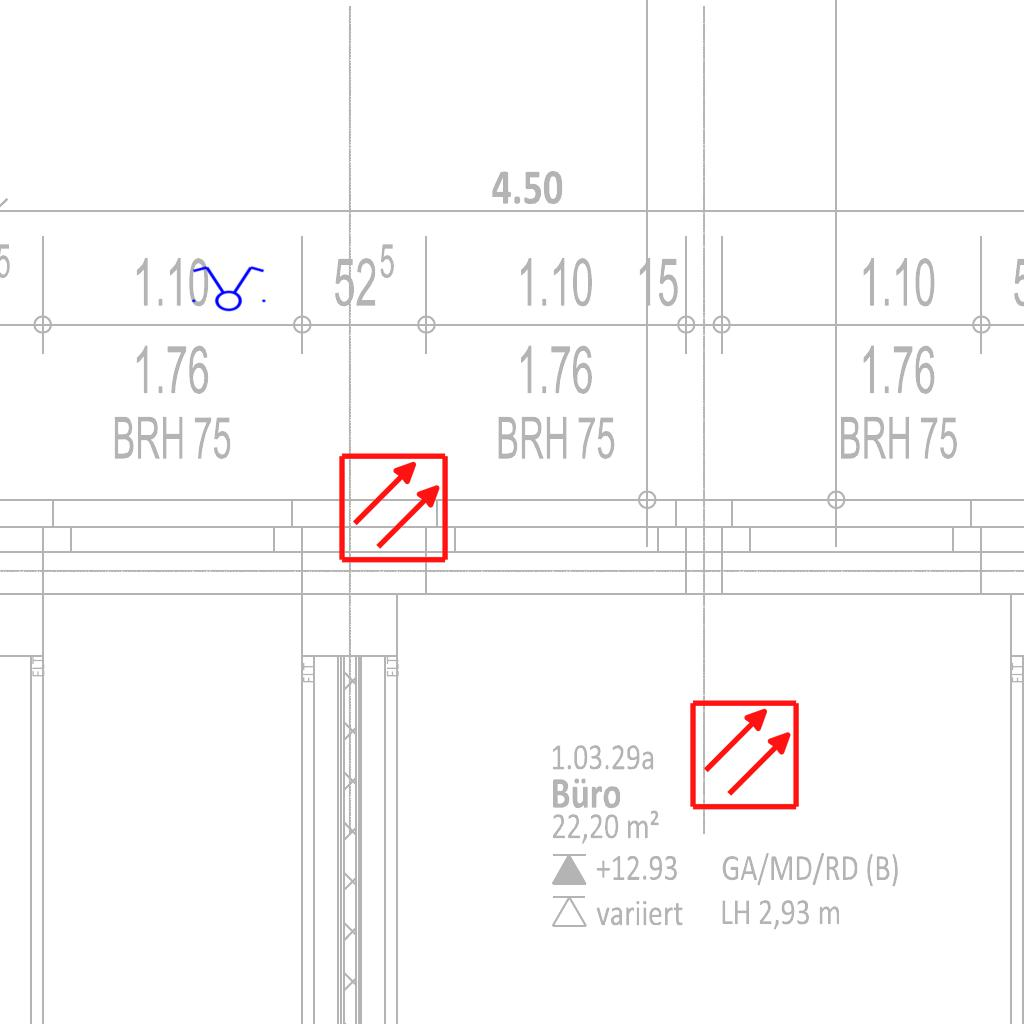RMO_Rauchmelder_optischer: (688, 698, 801, 811), (337, 451, 450, 564)
Serienschalter: (186, 264, 270, 312)
